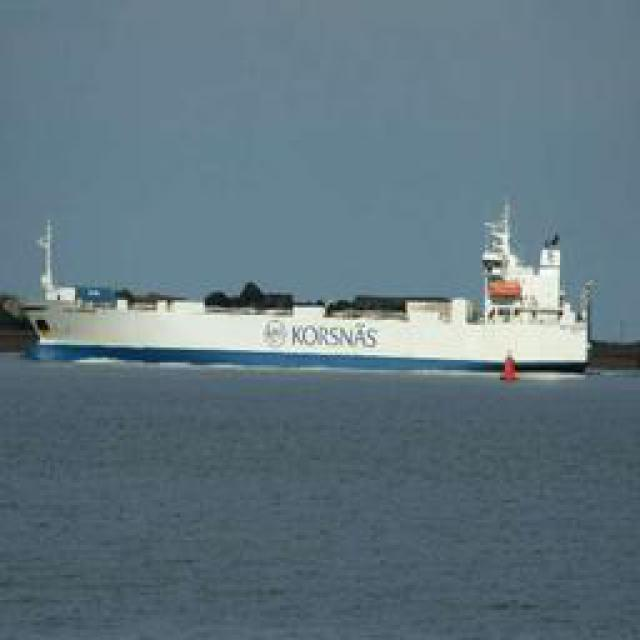Ship: (27, 221, 605, 371)
